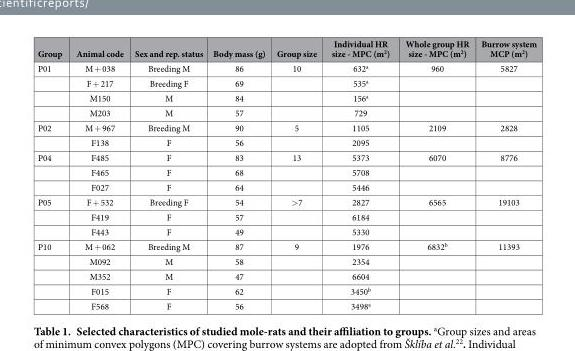table: (36, 37, 535, 311)
table column: (128, 37, 207, 311), (396, 37, 474, 311), (323, 37, 396, 311), (207, 37, 270, 311), (474, 37, 535, 311), (68, 37, 128, 311), (270, 37, 323, 311), (36, 37, 68, 311)
table column header: (36, 37, 535, 60)
table row: (36, 37, 535, 60), (36, 60, 535, 75), (36, 75, 535, 90), (36, 90, 535, 105), (36, 119, 535, 134), (36, 134, 535, 149), (36, 149, 535, 164), (36, 164, 535, 179), (36, 179, 535, 194), (36, 194, 535, 209), (36, 209, 535, 224), (36, 238, 535, 253), (36, 253, 535, 268), (36, 268, 535, 283), (36, 283, 535, 298), (36, 105, 535, 119), (36, 224, 535, 238), (36, 298, 535, 311)
table spanning cell: (36, 238, 68, 311), (36, 60, 68, 119), (36, 149, 68, 194), (36, 194, 68, 238), (36, 119, 68, 149)
